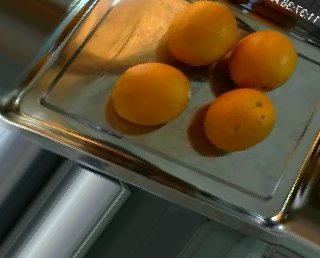Orange: (110, 60, 191, 123), (164, 1, 237, 67), (202, 86, 275, 150), (228, 28, 299, 91)
